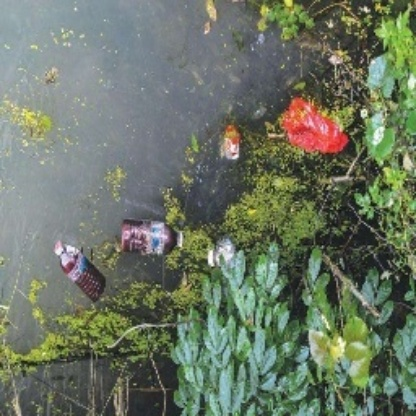bottle: (49, 238, 110, 303), (120, 218, 188, 257), (220, 121, 242, 163)
plastic-bag: (277, 95, 352, 158)
